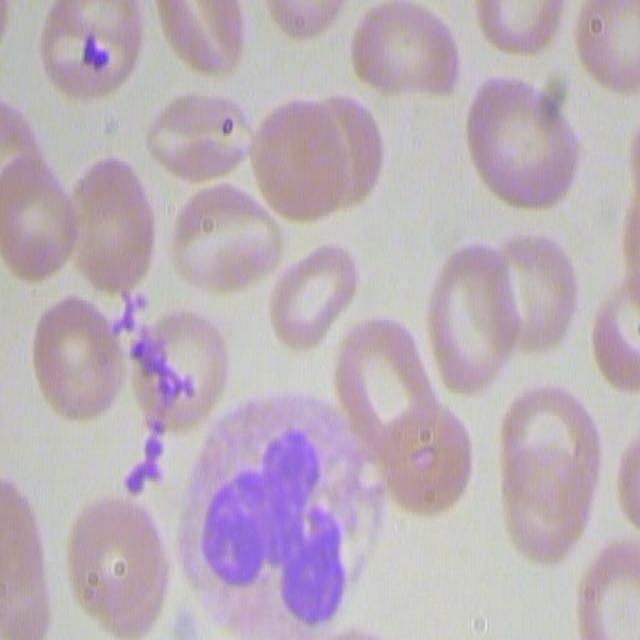RBC: (238, 83, 382, 235), (494, 377, 610, 561), (59, 143, 167, 325), (462, 65, 580, 217), (164, 167, 288, 306), (423, 234, 524, 403), (67, 493, 173, 639), (0, 85, 74, 294), (131, 299, 231, 441), (350, 0, 473, 115), (28, 292, 124, 424), (492, 223, 583, 360), (32, 2, 145, 112), (265, 225, 359, 356), (372, 401, 474, 521), (330, 311, 420, 447), (0, 478, 50, 640), (157, 0, 255, 79), (570, 535, 640, 638), (568, 0, 640, 94), (468, 0, 568, 59), (593, 271, 640, 392), (257, 0, 348, 43)
WBC: (178, 393, 368, 640)
platelets: (122, 426, 170, 519)
